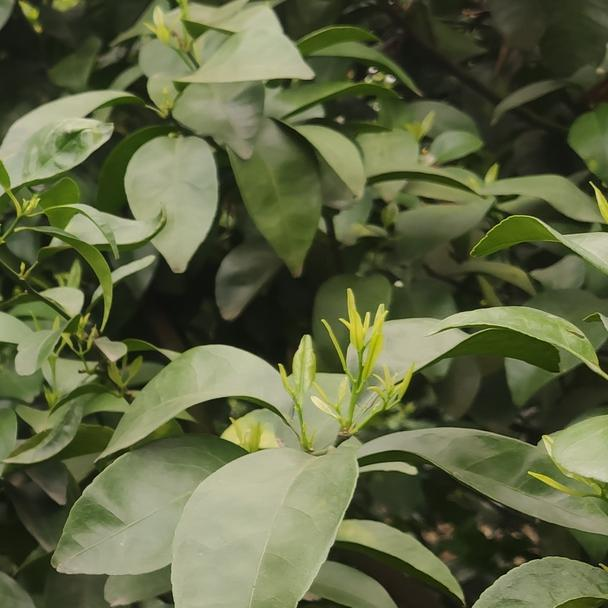shoot: (325, 297, 396, 402)
